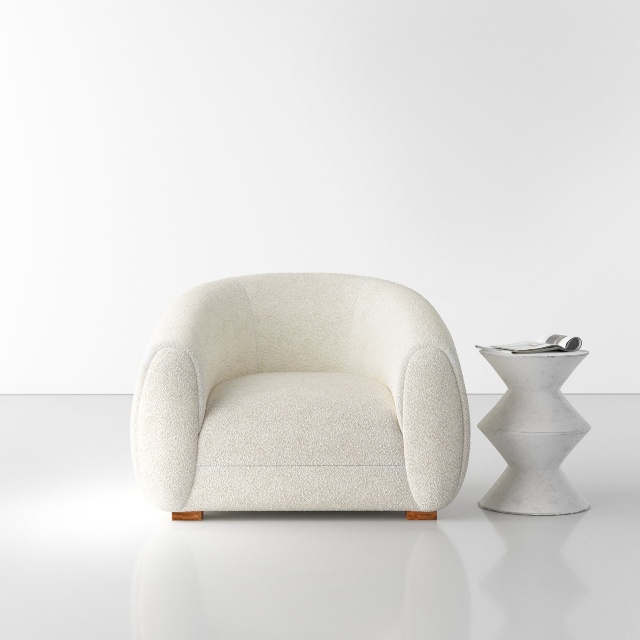obstacle: (131, 274, 469, 512), (478, 348, 590, 515)
